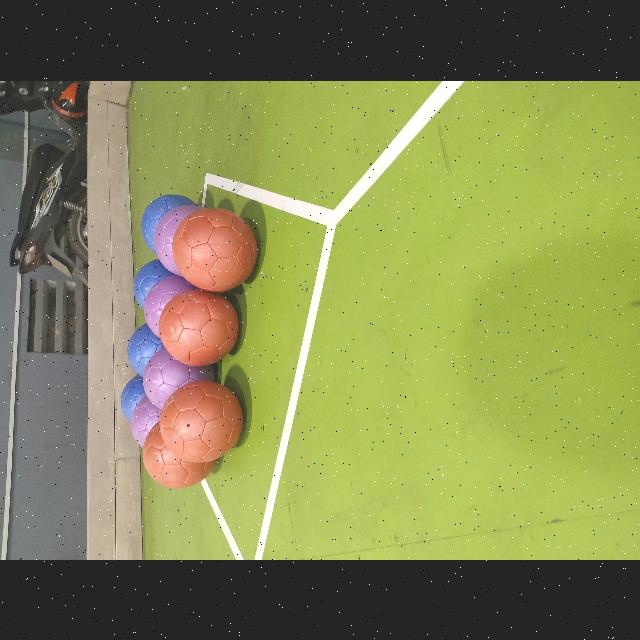B: (142, 193, 198, 260), (134, 259, 174, 309), (128, 323, 162, 377), (121, 376, 145, 422)
P: (150, 207, 217, 277), (143, 347, 215, 409), (143, 275, 203, 337)
R: (173, 207, 257, 291), (160, 381, 242, 463), (160, 288, 238, 366), (144, 417, 220, 491)
